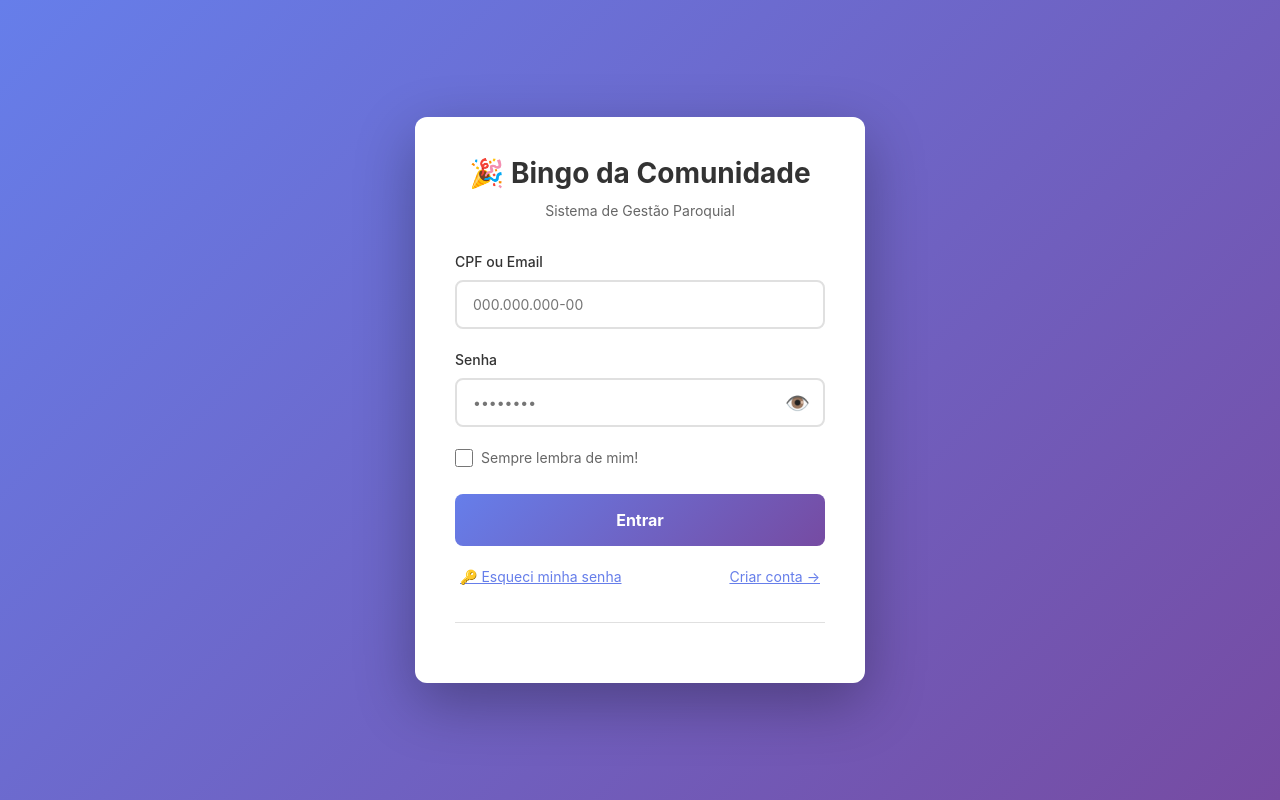
Test case: Login (público) › exibe erro vindo do login
Type "111.444.777-35" into the field with placeholder "000.000.000-00" at (640, 305), box [455, 280, 825, 329]
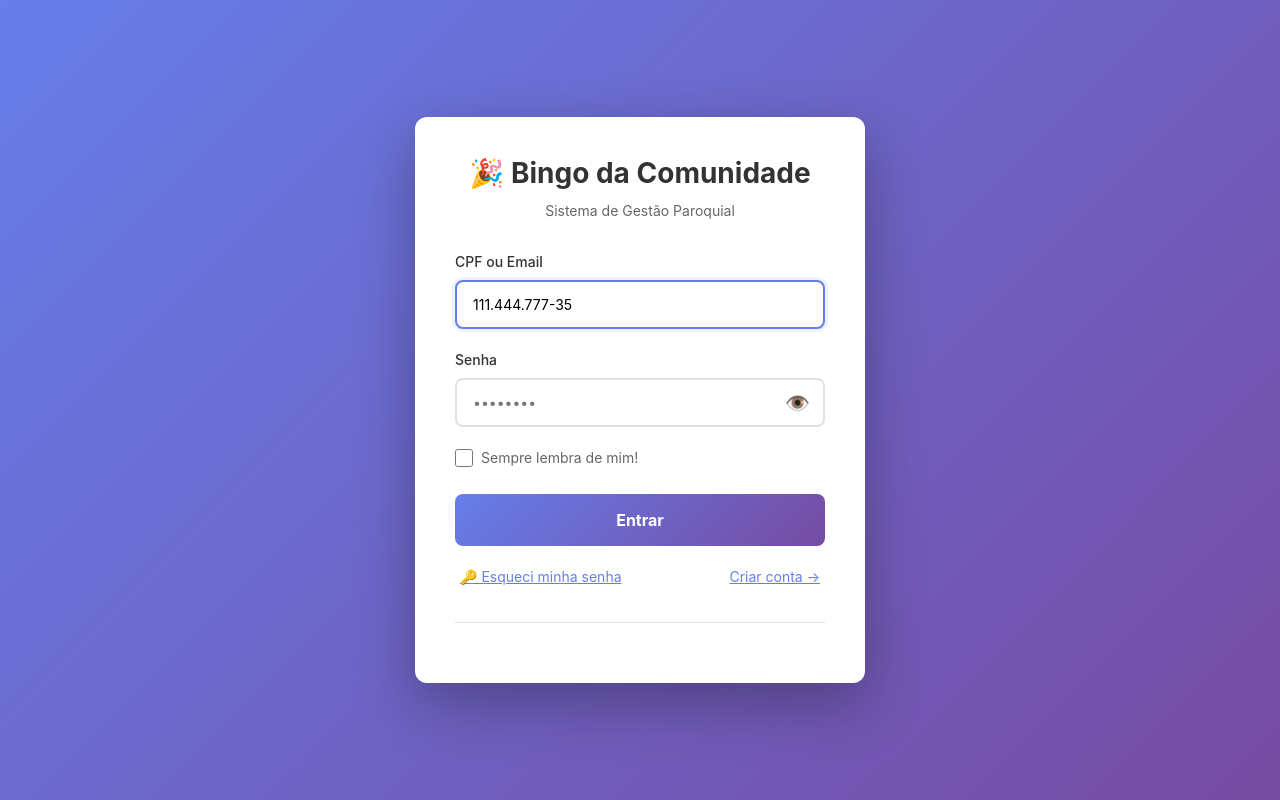
Type "Senha@123" into the password field with placeholder "••••••••" at (640, 403), box [455, 378, 825, 427]
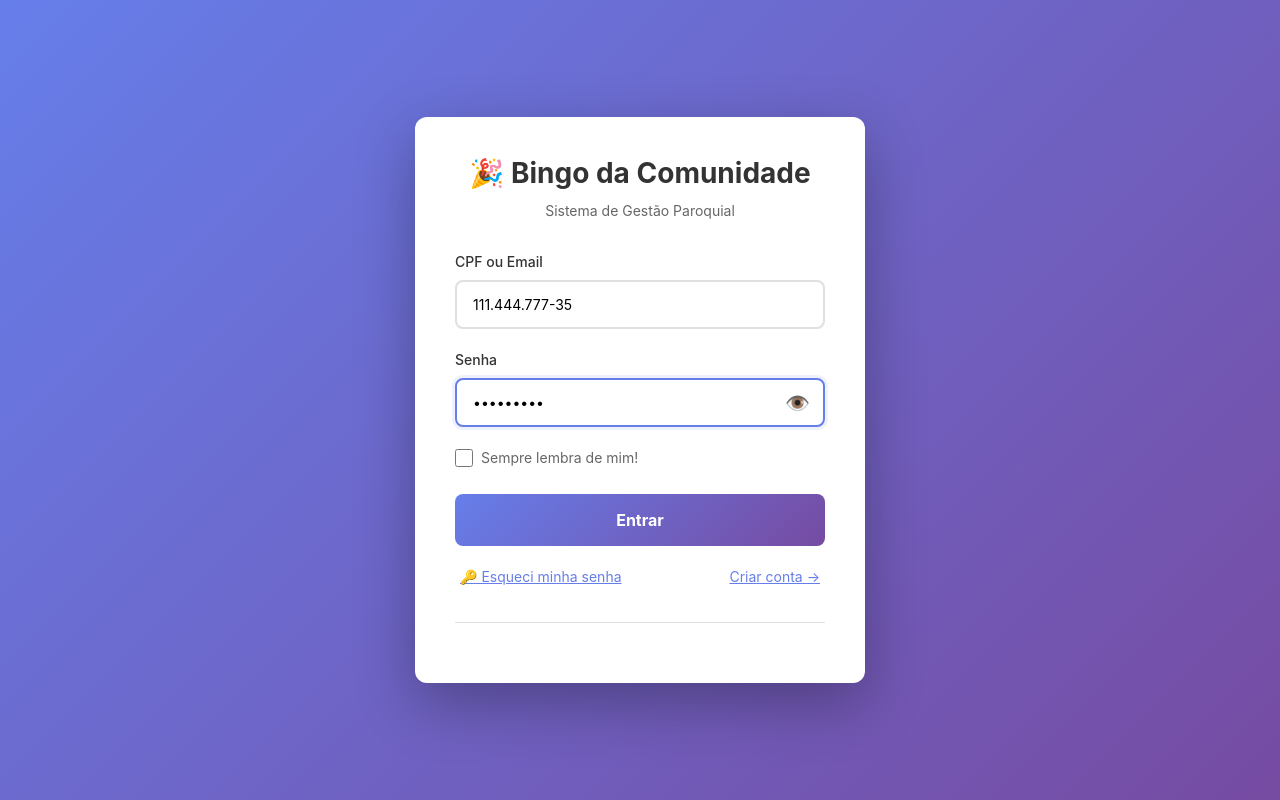
Click the button "Entrar" at (640, 520), box [455, 494, 825, 546]
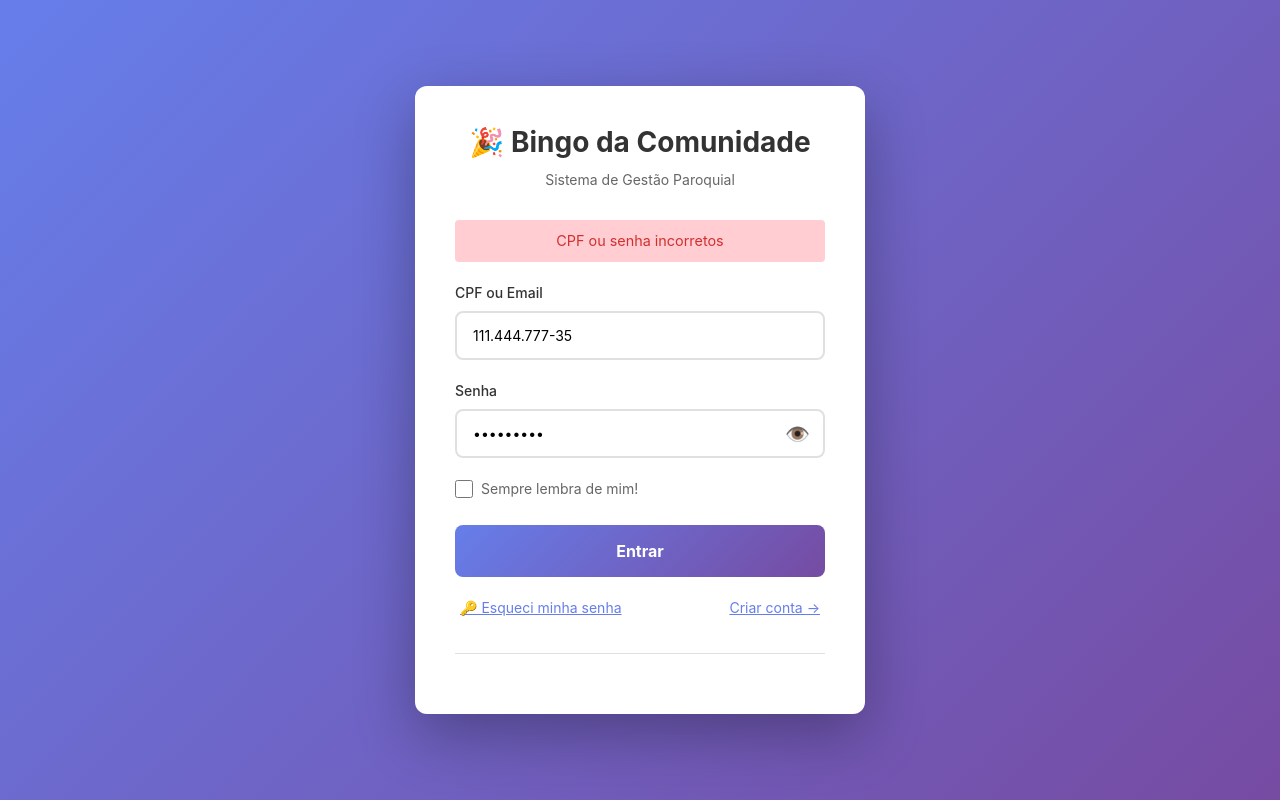
Check: the text "CPF ou senha incorretos" is shown, box [455, 220, 825, 262]
